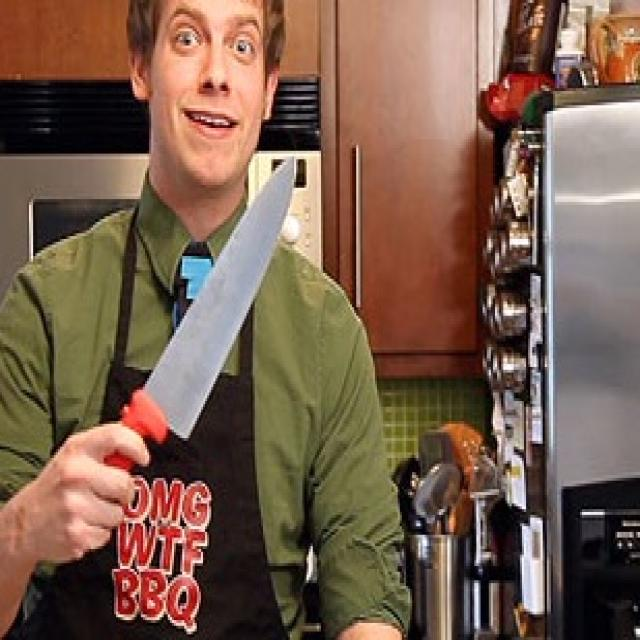knife: (123, 151, 298, 479)
